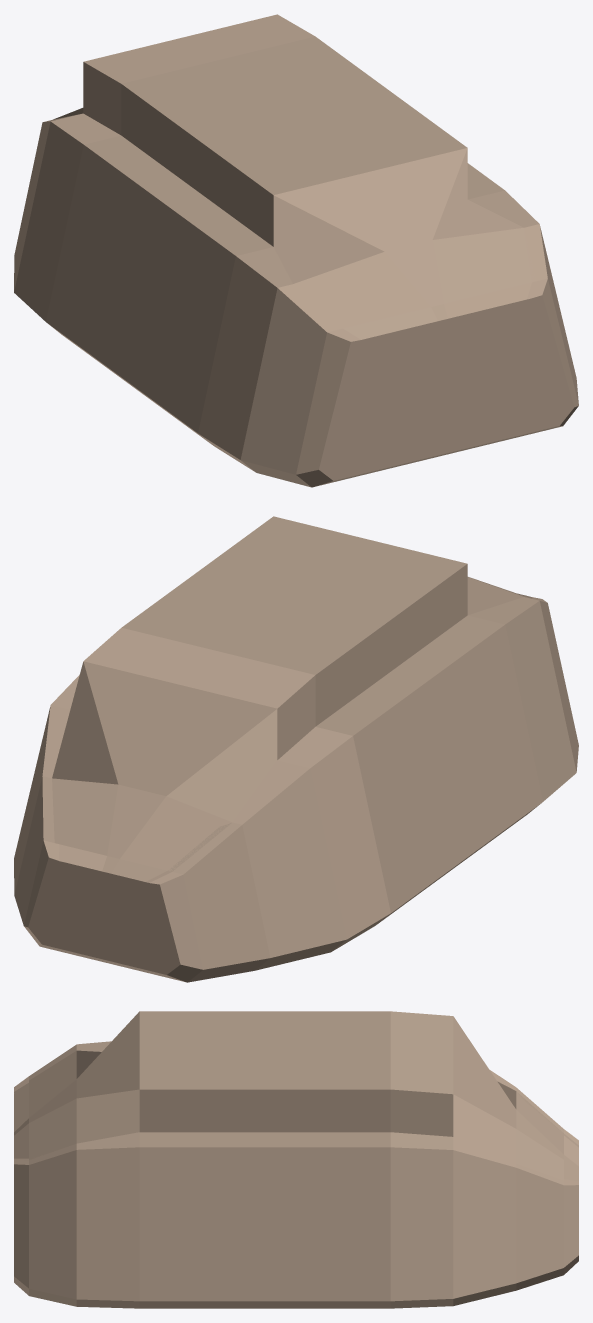
The model's file is orrin_oddball_b.glb.
3 views of the same model, one above another, from view 1: azimuth 30°, elevation 25°; view 2: azimuth 150°, elevation 25°; view 3: azimuth 270°, elevation 25° (orthographic). The views are drawn at different scales.
Visible parts, largest first — view 1: orrin_oddball_b; view 2: orrin_oddball_b; view 3: orrin_oddball_b.
Boxes of the visible parts, x1,y1,x2,y2 form: orrin_oddball_b: (14, 14, 578, 487); orrin_oddball_b: (14, 516, 578, 982); orrin_oddball_b: (14, 1011, 578, 1308).
Size of the model in its own units: 3.9 by 2.55 by 6.7.
